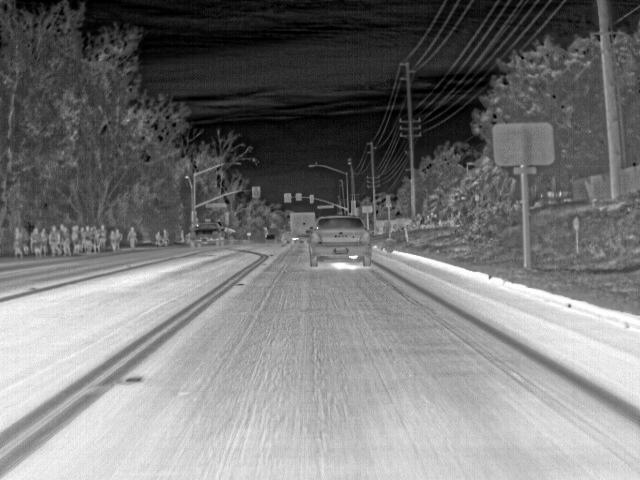car: (309, 216, 371, 267), (191, 222, 227, 248), (264, 234, 277, 246)
person: (14, 225, 24, 259), (49, 224, 59, 256), (30, 225, 39, 257), (128, 225, 138, 249), (61, 225, 69, 255), (39, 227, 47, 256), (72, 226, 80, 252), (98, 224, 106, 249), (89, 226, 97, 251), (160, 227, 171, 245), (114, 225, 122, 249), (82, 225, 89, 252), (154, 228, 162, 246), (109, 229, 116, 249)
